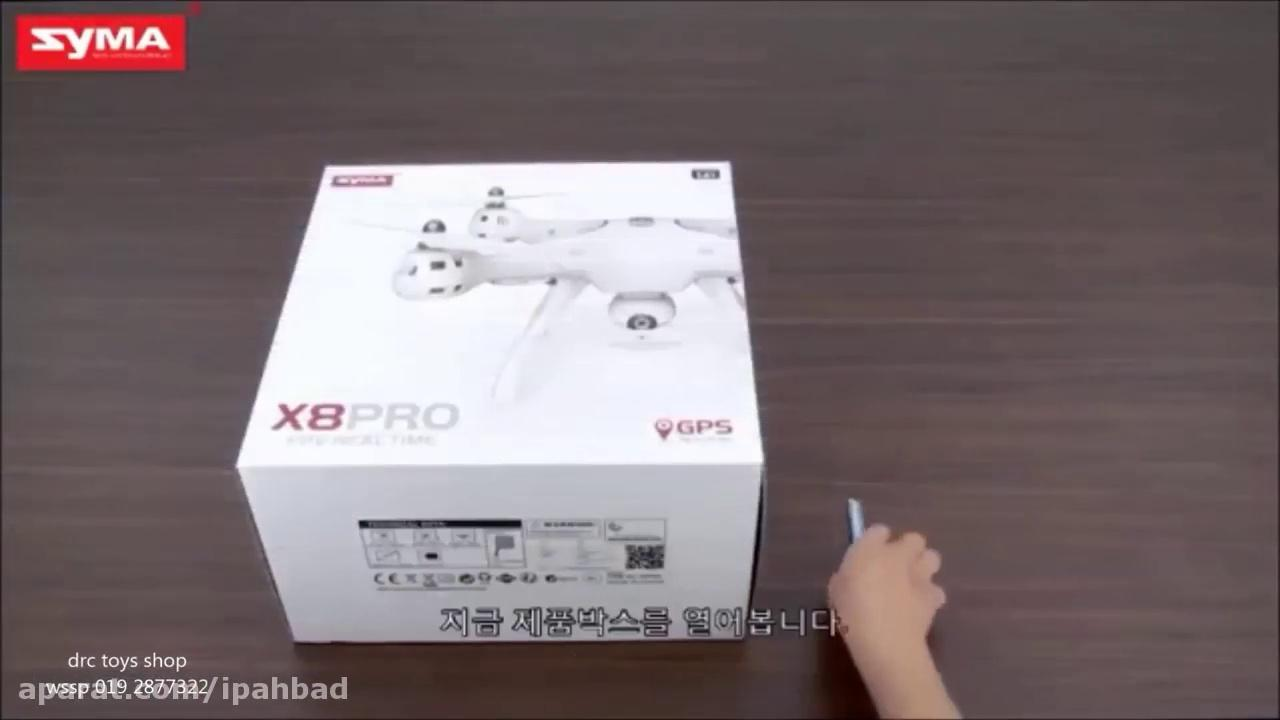drone: (346, 180, 749, 392)
